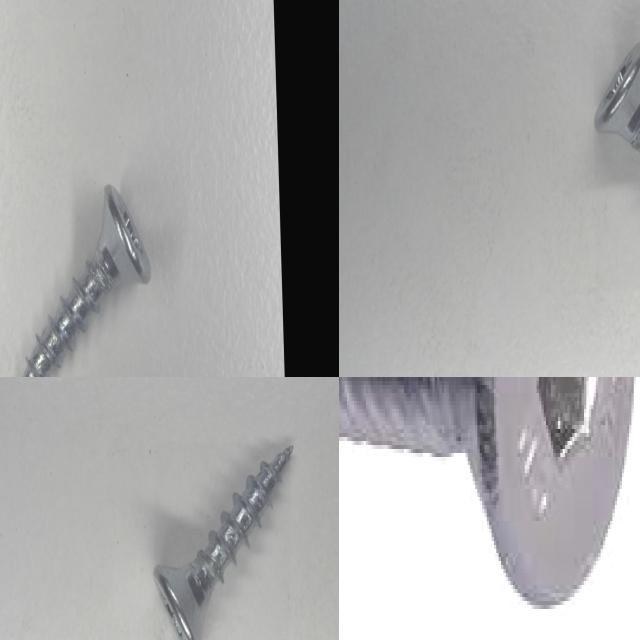Screw: (339, 377, 637, 609), (153, 444, 292, 640), (22, 184, 151, 377), (594, 41, 640, 152)
